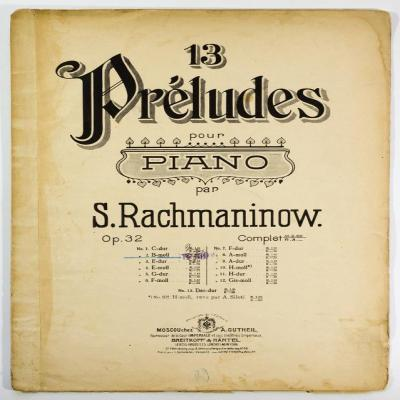rare_books: (5, 6, 399, 395)
